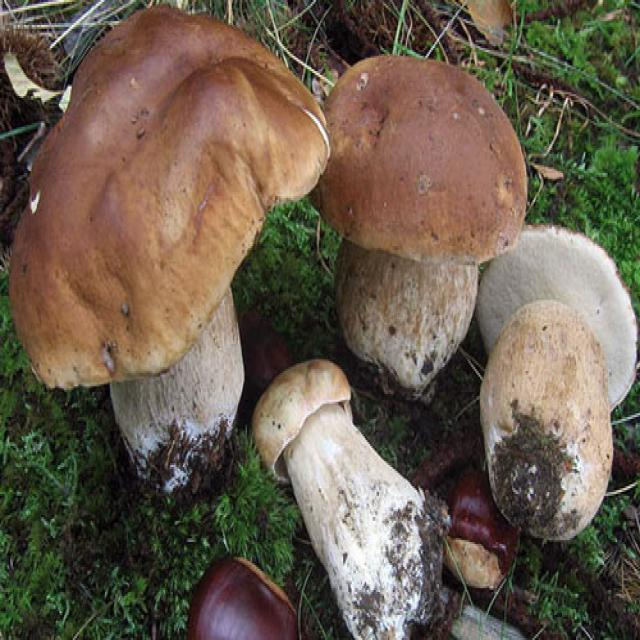Boletus: (10, 8, 330, 501), (318, 50, 525, 394), (256, 361, 447, 637), (476, 227, 637, 544)
